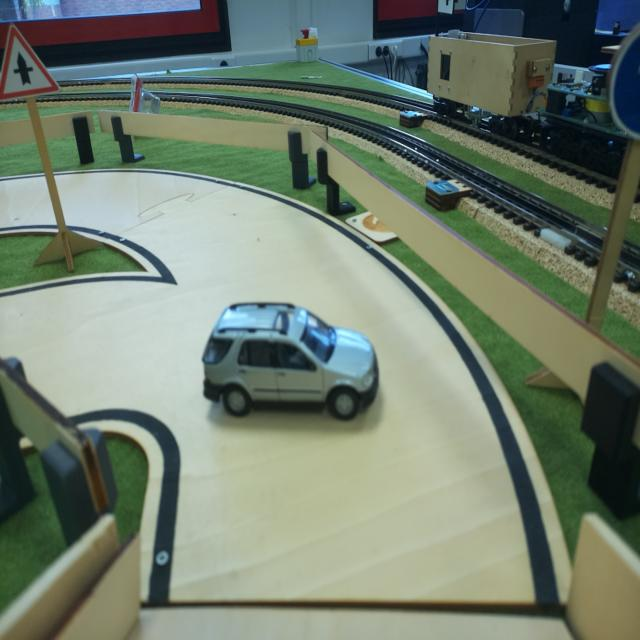obstacle_voiture: (197, 285, 387, 437)
panneau_intersection: (1, 20, 64, 116)
